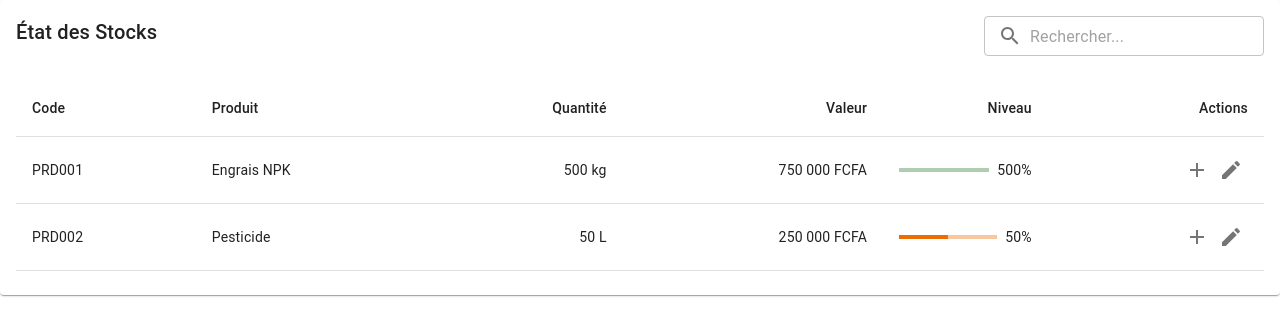
StockList › permet la recherche de produits
In the field with placeholder "Rechercher...": (1147,36) [1030, 16, 1264, 56], type "Engrais"
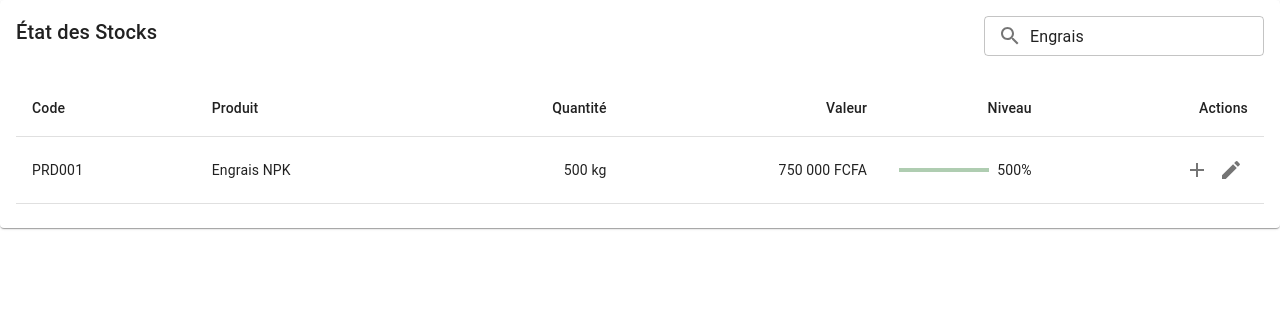
Check: the text "Engrais NPK" is shown, box [196, 136, 436, 204]
Check: the text "Pesticide" is gone
